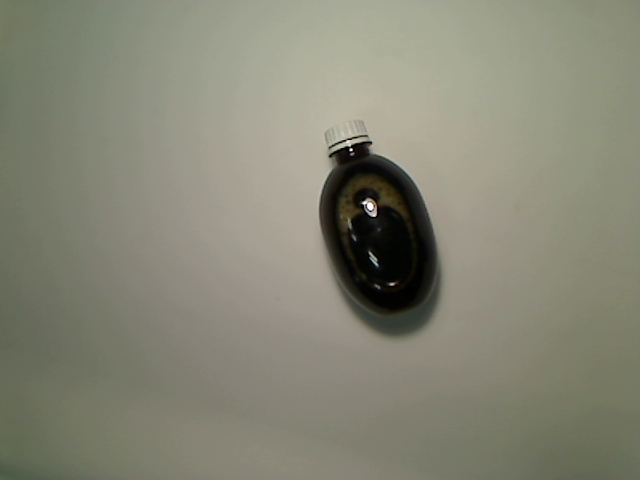plast_bottle: (317, 115, 439, 319)
